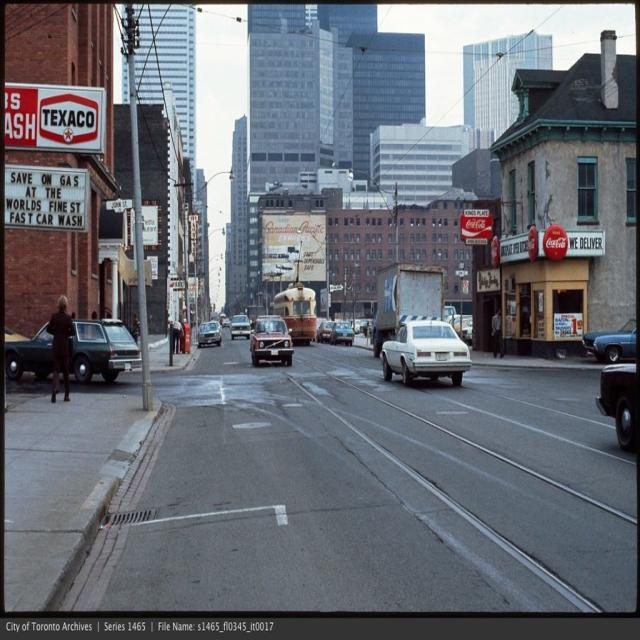car: (383, 310, 473, 384), (251, 314, 293, 363), (197, 318, 221, 343), (229, 312, 252, 338), (329, 320, 350, 340)
